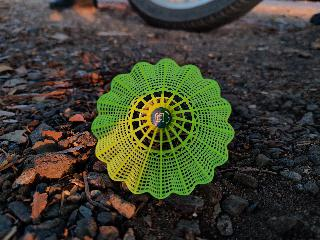shuttlecock: (87, 57, 235, 197)
